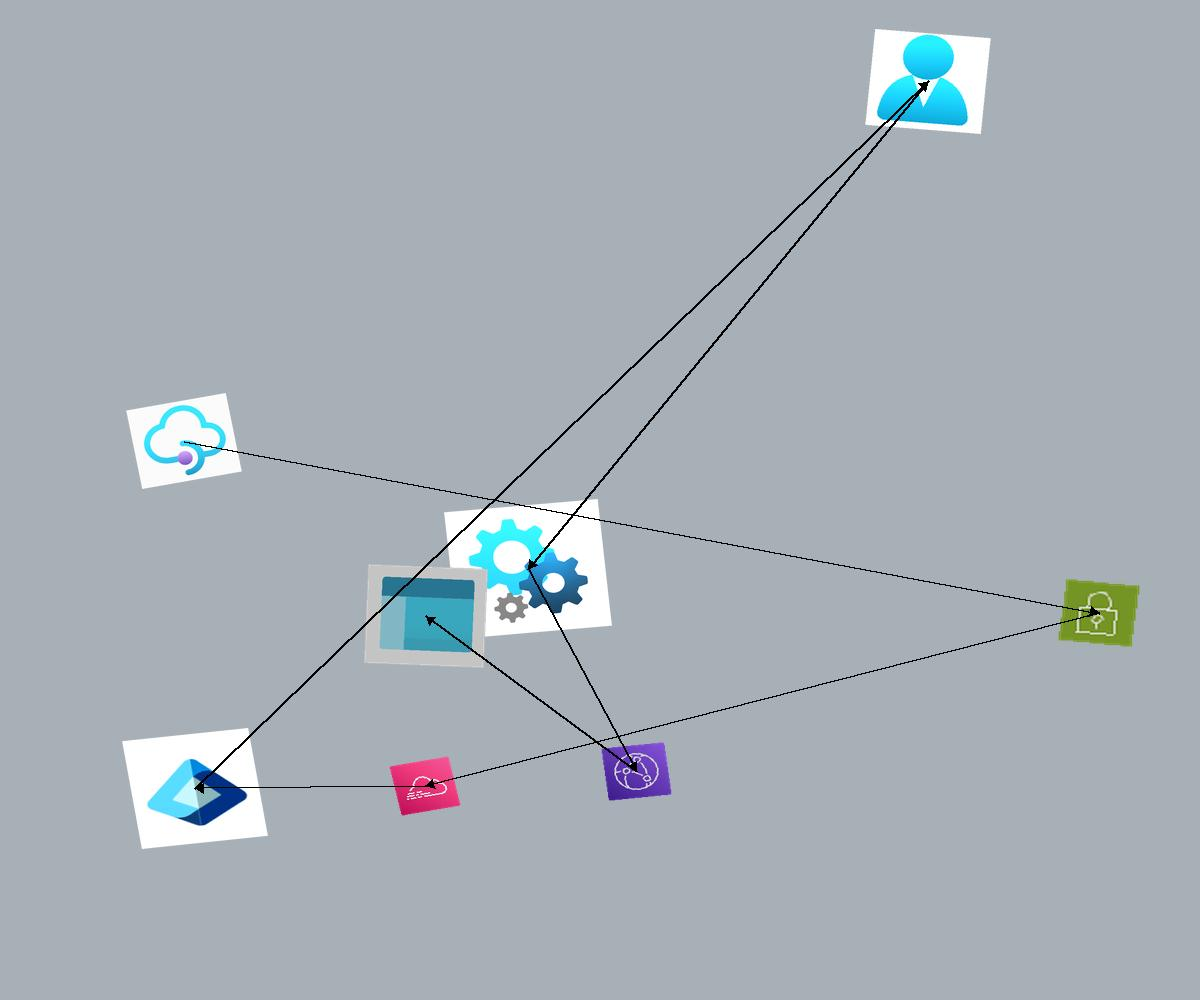AWS-CloudFront: (601, 742, 672, 801)
AWS-CloudTrail: (389, 756, 461, 816)
AWS-Public-subnet: (1057, 578, 1141, 648)
Azure_api: (444, 499, 612, 639)
Azure_api_gateway: (126, 393, 242, 489)
Azure_management-portal: (364, 564, 488, 668)
Azure_microsoft_entra: (122, 728, 268, 849)
Azure_users: (865, 29, 991, 134)
